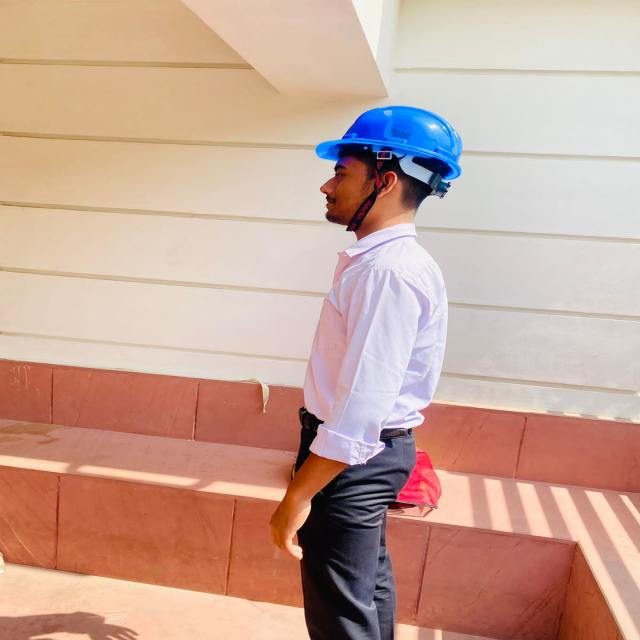no jacket: (293, 106, 462, 640)
